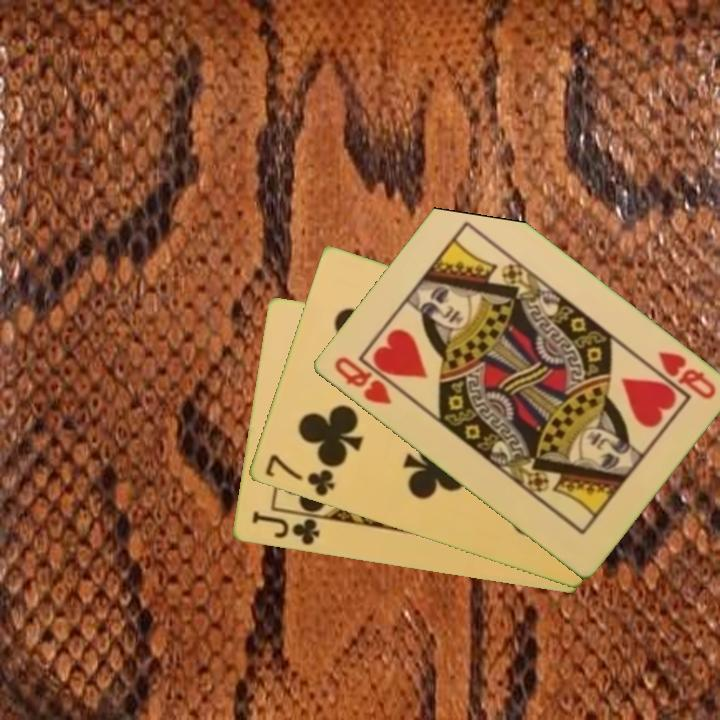7c: (261, 451, 337, 500)
Jc: (247, 508, 322, 549)
Qh: (653, 347, 719, 402), (330, 353, 394, 408)
